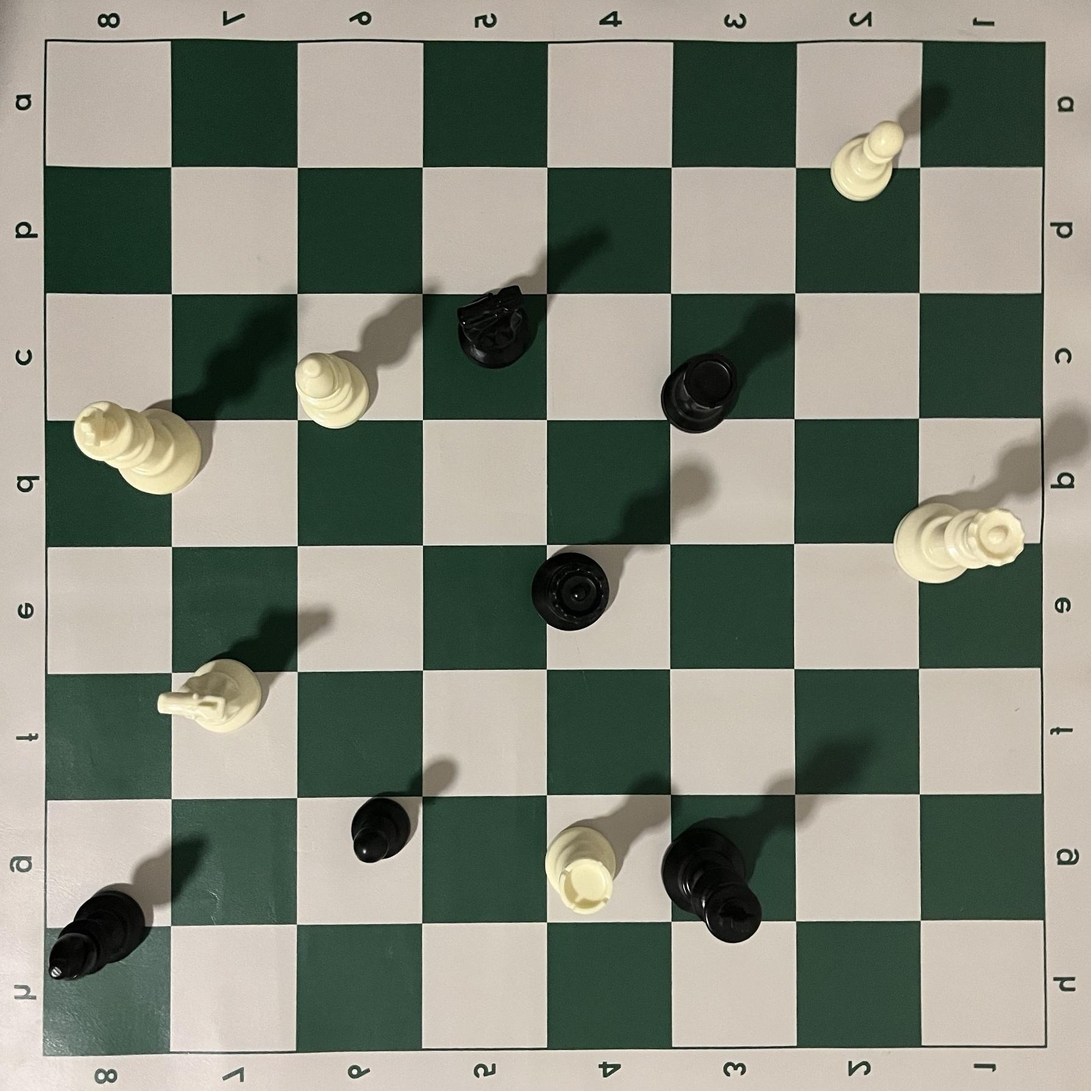black_bishop: (48, 884, 148, 983)
black_king: (660, 824, 764, 945)
black_knight: (457, 284, 530, 370)
black_pawn: (350, 796, 412, 864)
black_queen: (531, 552, 610, 632)
black_rook: (659, 353, 737, 433)
white_bishop: (295, 352, 371, 430)
white_king: (73, 400, 203, 496)
white_knight: (157, 659, 263, 735)
white_pawn: (830, 119, 906, 202)
white_queen: (892, 502, 1026, 584)
white_rook: (544, 825, 618, 916)
